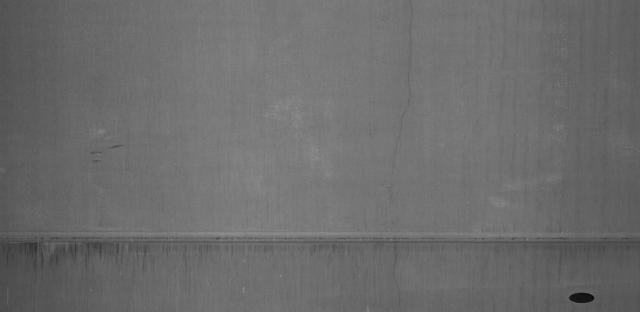punching_hole: (566, 289, 597, 306)
welding_line: (3, 221, 636, 259)
